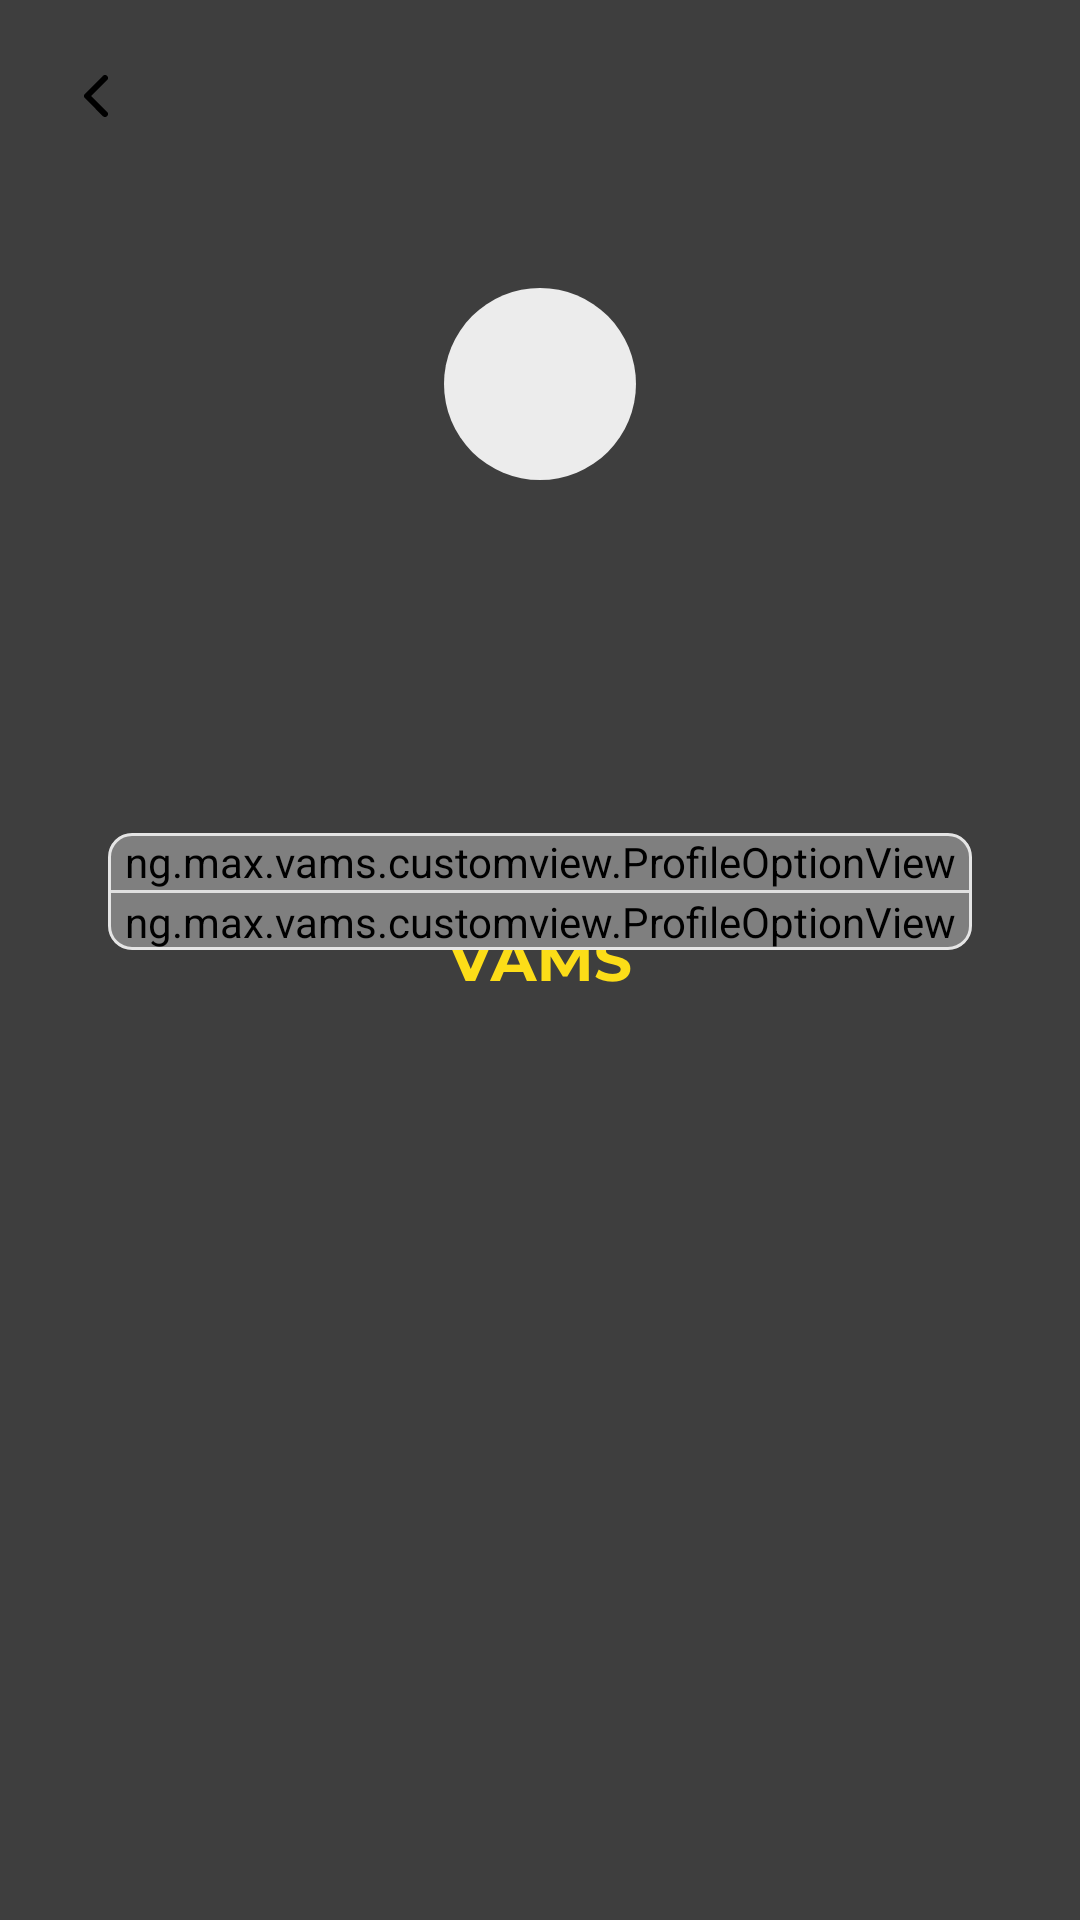

Named icons in this screenshot (1080 × 1920) and their bounding boxes, [x1,y1,x2,y2]:
back arrow: [84,75,108,117]
